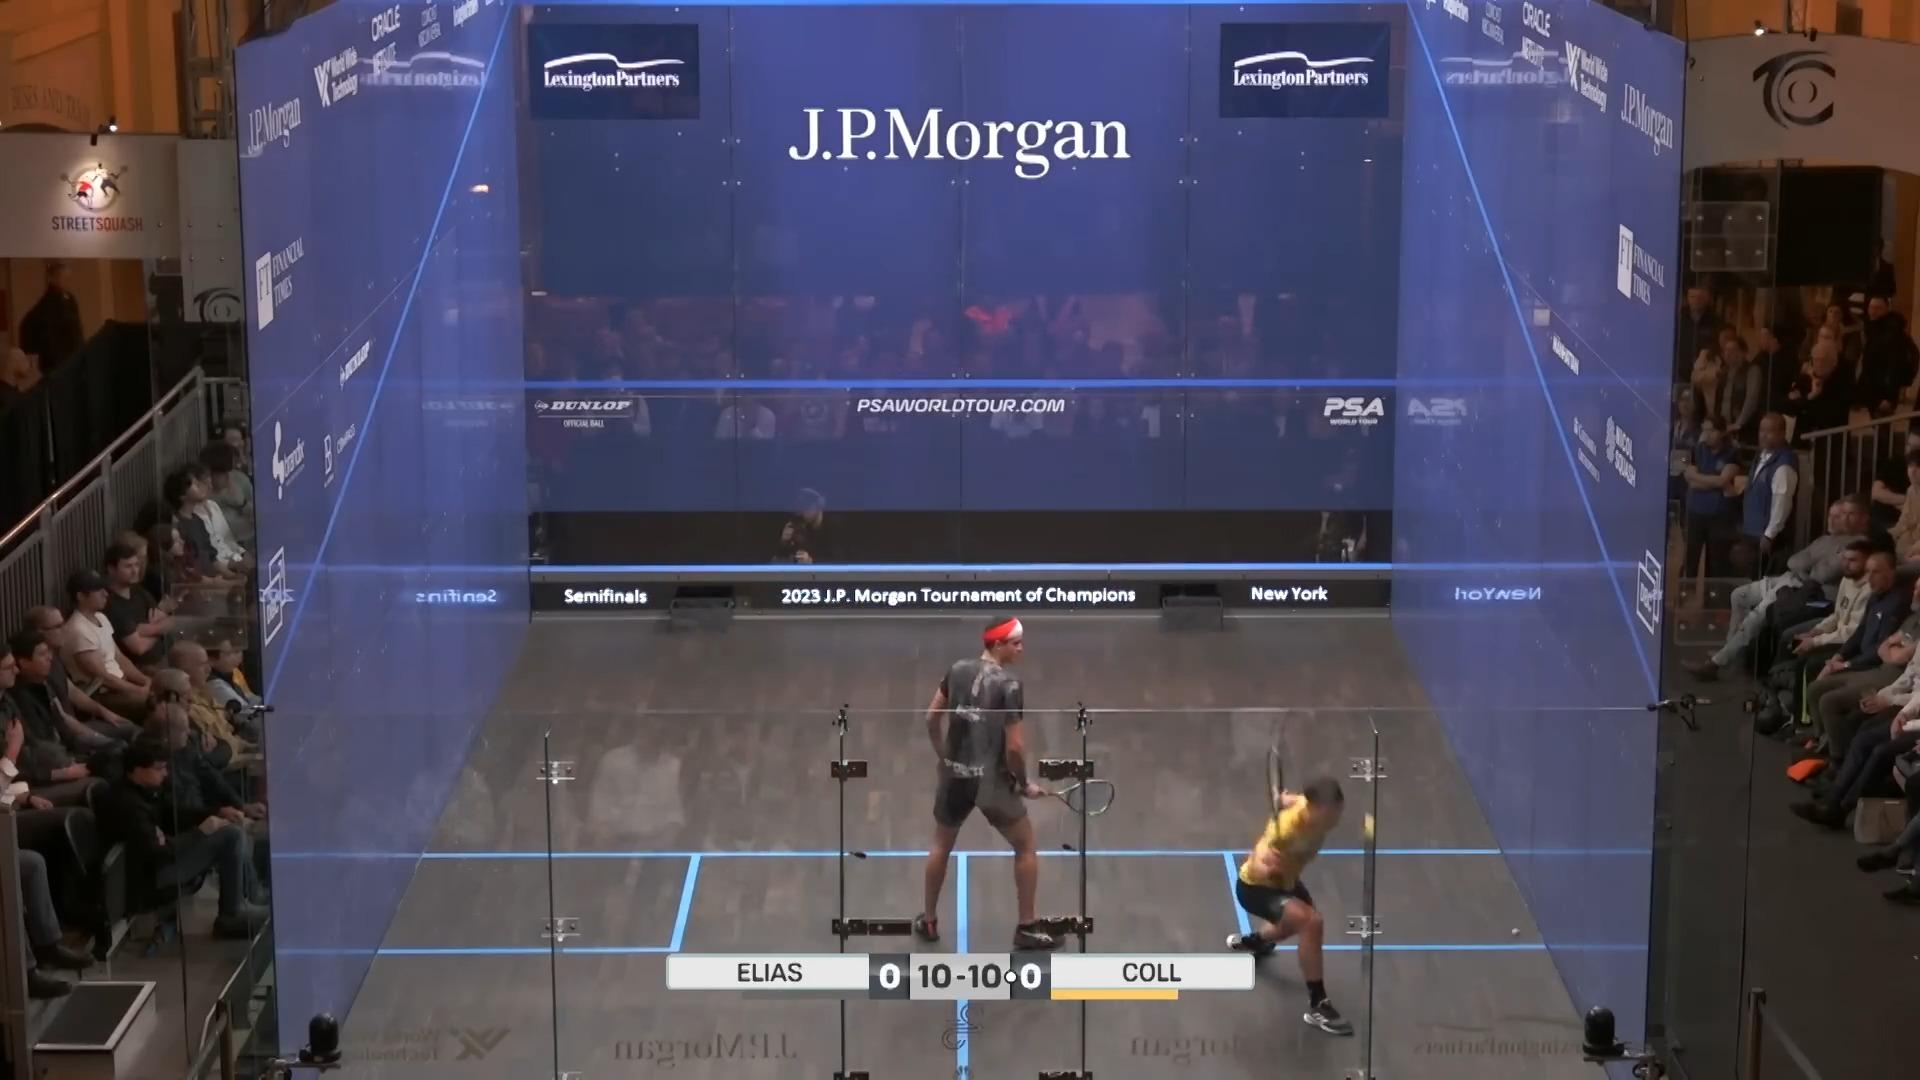Racket: (1021, 766, 1121, 820), (1261, 742, 1288, 865)
